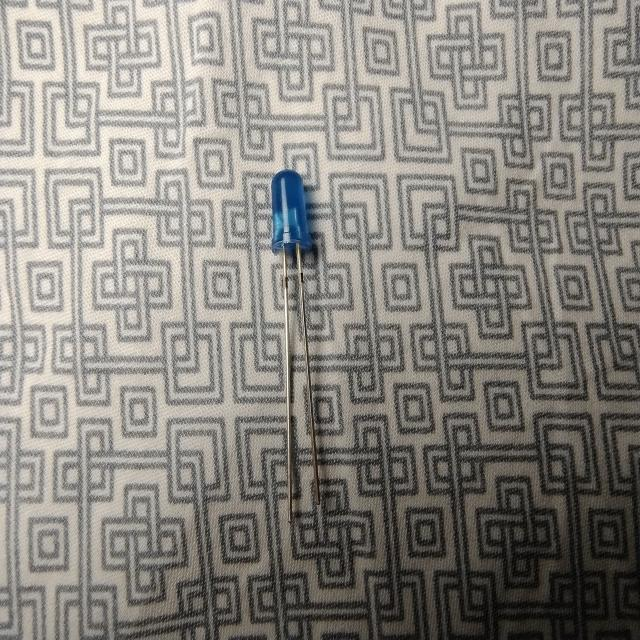blue_led: (270, 168, 312, 255)
